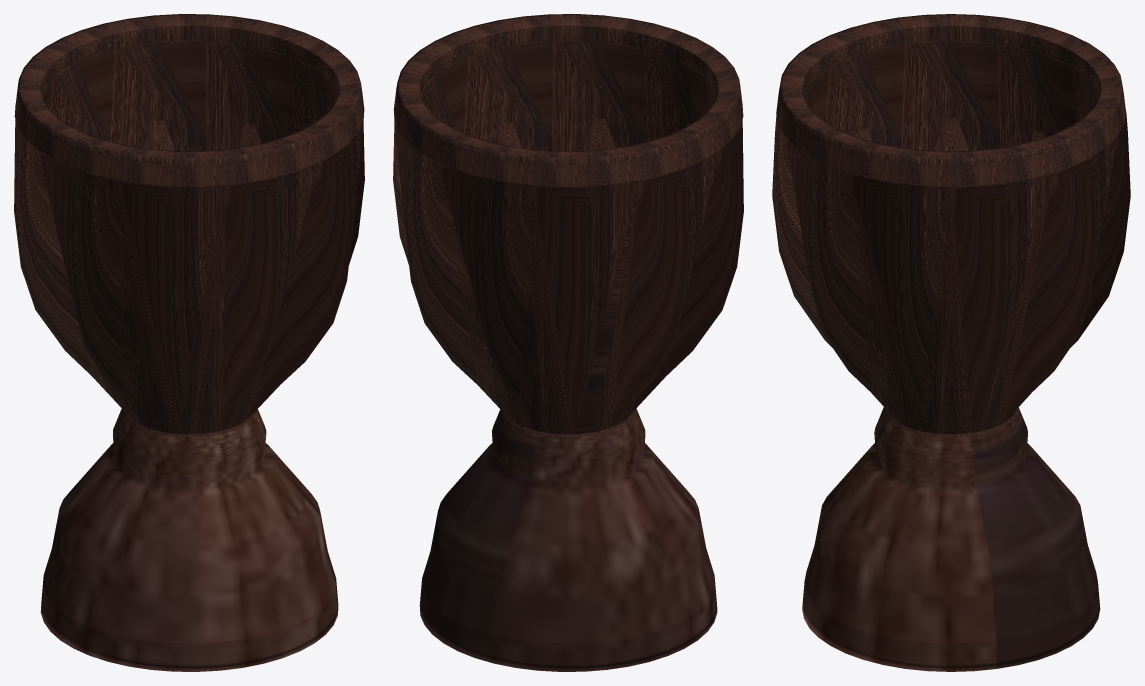
Rendered from mortar_reduced.fbx.
3 renders of one model, left to right at view 1: azimuth 30°, elevation 25°; view 2: azimuth 150°, elevation 25°; view 3: azimuth 270°, elevation 25°, orthographic.
Parts seen in each view (by area): view 1: polySurface15, polySurface12, polySurface9, polySurface10; view 2: polySurface15, polySurface12, polySurface9, polySurface10; view 3: polySurface15, polySurface12, polySurface9, polySurface10.
Boxes of the visible parts, x1,y1,x2,y2 form: polySurface15: [14, 40, 364, 434]; polySurface12: [43, 408, 335, 643]; polySurface9: [15, 14, 364, 186]; polySurface10: [40, 577, 338, 671]; polySurface15: [393, 40, 743, 434]; polySurface12: [422, 408, 714, 643]; polySurface9: [394, 14, 743, 186]; polySurface10: [419, 578, 717, 671]; polySurface15: [772, 40, 1130, 434]; polySurface12: [804, 407, 1097, 643]; polySurface9: [776, 14, 1125, 186]; polySurface10: [802, 582, 1100, 671].
Size of the model in its own units: 11.54 by 19.02 by 11.83.
